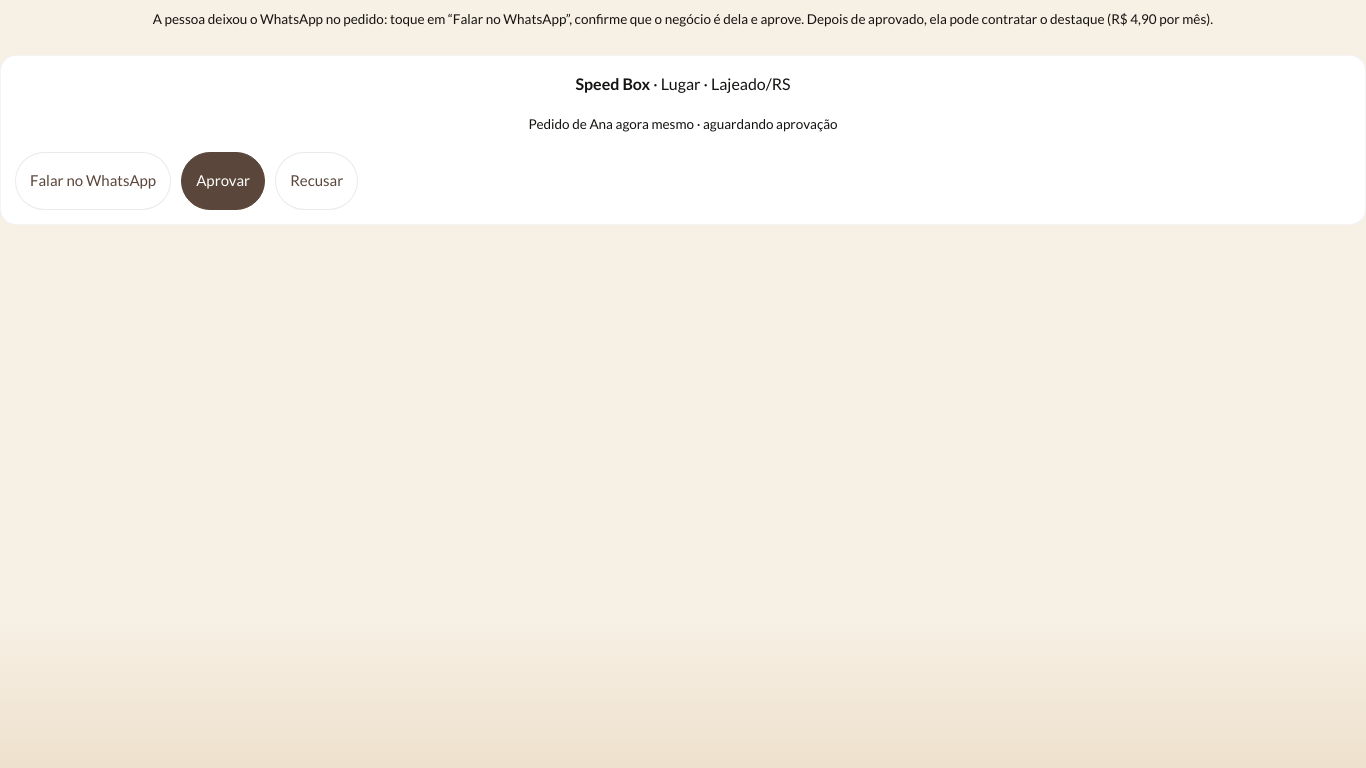
it: Reivindicação: lista do profissional › aprovar vincula o negócio e o pedido sai da lista de pendentes
Click the button "Aprovar": [223, 181] box [181,152,265,210]
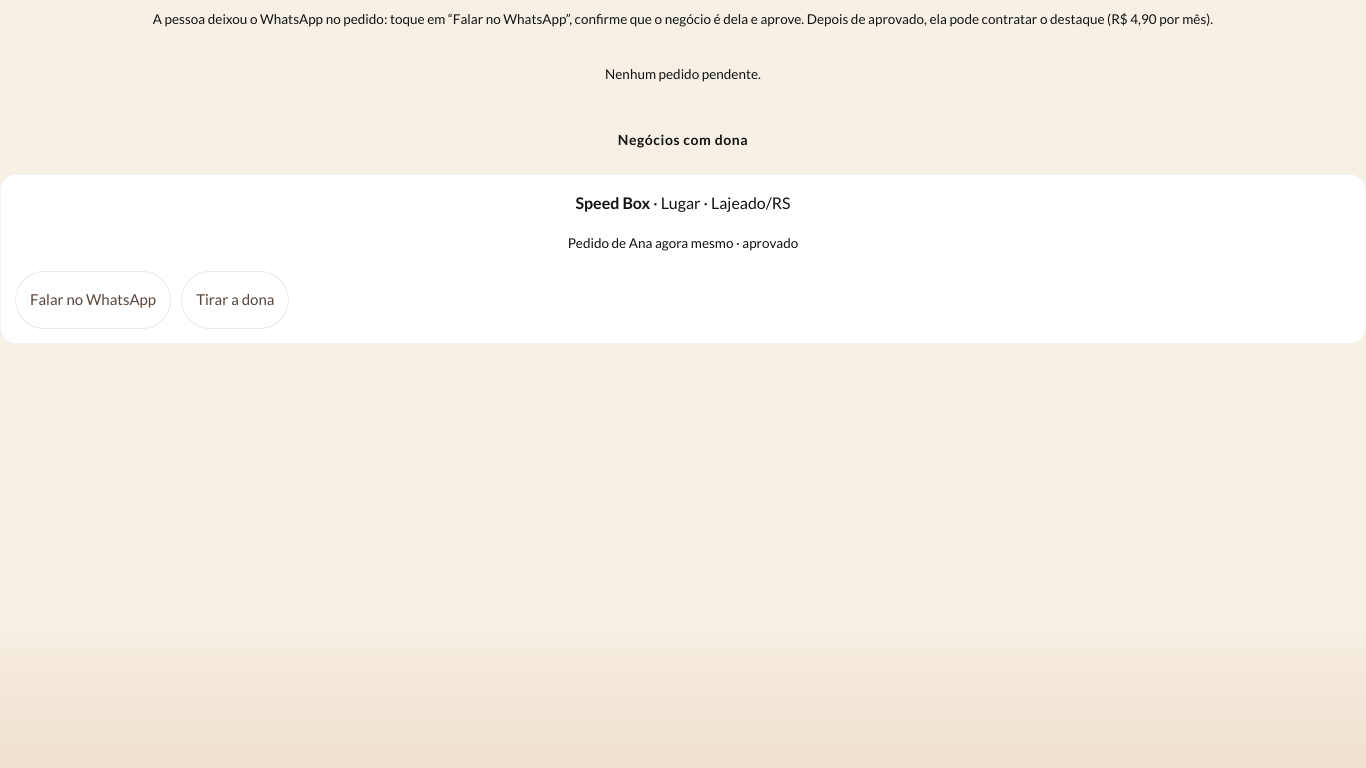
Now the button "Aprovar" is gone
Now the text "Nenhum pedido pendente." is shown, box [605,66,761,82]
Now the heading "Negócios com dona" is shown, box [618,131,748,148]
